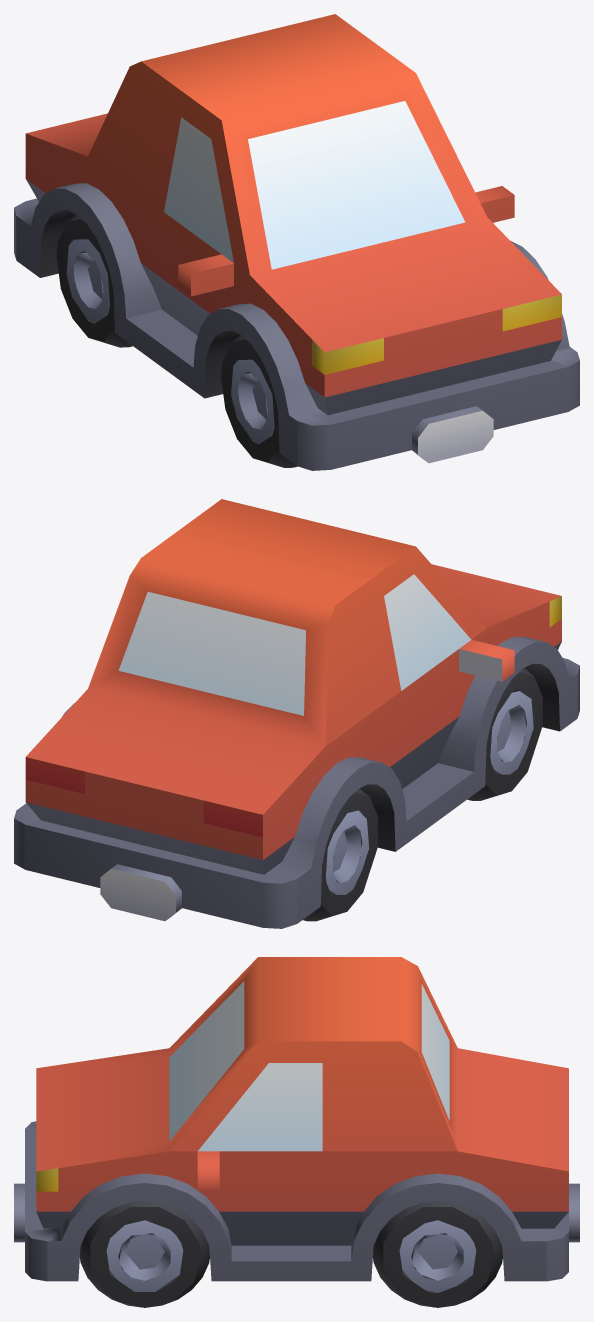
The model's file is sedan.glb.
The picture shows the model from 3 angles, top to bottom: view 1: azimuth 30°, elevation 25°; view 2: azimuth 150°, elevation 25°; view 3: azimuth 270°, elevation 25°; orthographic projection. The views are drawn at different scales.
Visible parts, largest first — view 1: wheel-front-right; view 2: wheel-front-right; view 3: wheel-front-right.
Boxes of the visible parts, x1,y1,x2,y2 form: wheel-front-right: (14,14,579,470); wheel-front-right: (14,499,579,928); wheel-front-right: (14,957,579,1307).
Bounding box in the file's own units: 2.25 × 1.95 × 3.82.
1 material, 1 textured.
